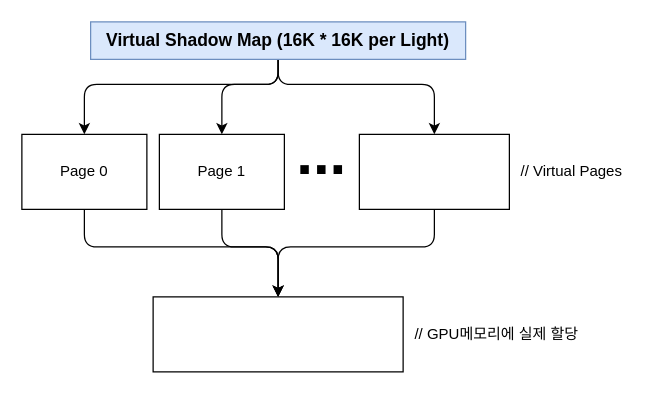
This 656x394 diagram has some shape labels left out. Each missing label, with the box of its shape:
Page N: (358, 133, 509, 209)
Physical Page Pool (크기 제한): (152, 296, 403, 372)
